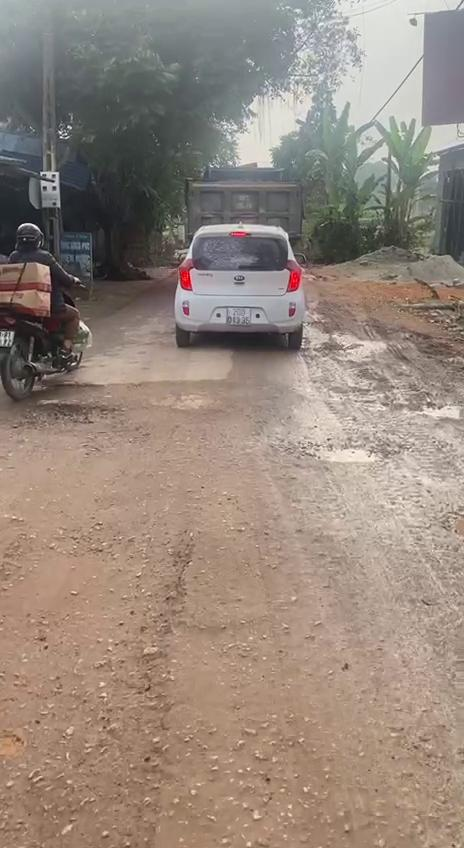pothole: (0, 497, 204, 848), (21, 394, 126, 434), (296, 437, 386, 469)
